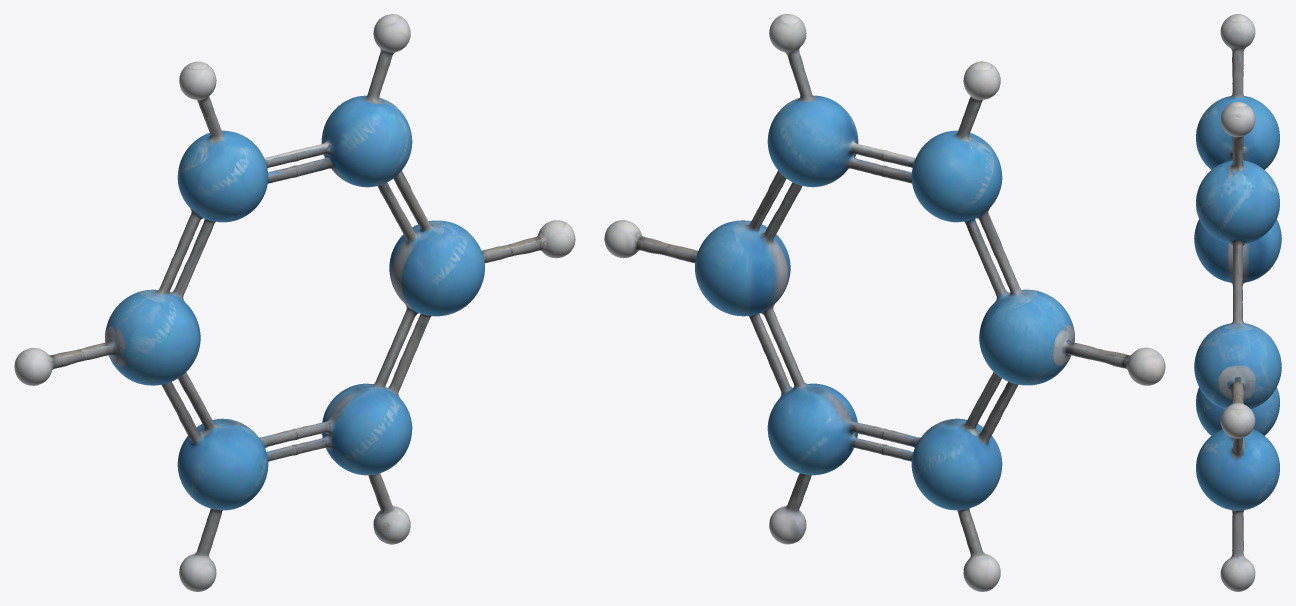
File: benzene.glb
3 renders of one model, left to right at view 1: azimuth 30°, elevation 25°; view 2: azimuth 150°, elevation 25°; view 3: azimuth 270°, elevation 25°, orthographic. The views are drawn at different scales.
Bounding box in the file's own units: 2 × 1.82 × 0.2963.
1 material, 1 textured.
